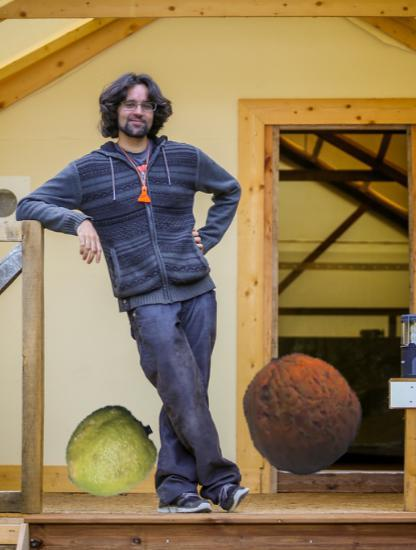Limes: (61, 404, 157, 500)
Walnut: (239, 352, 361, 474)
